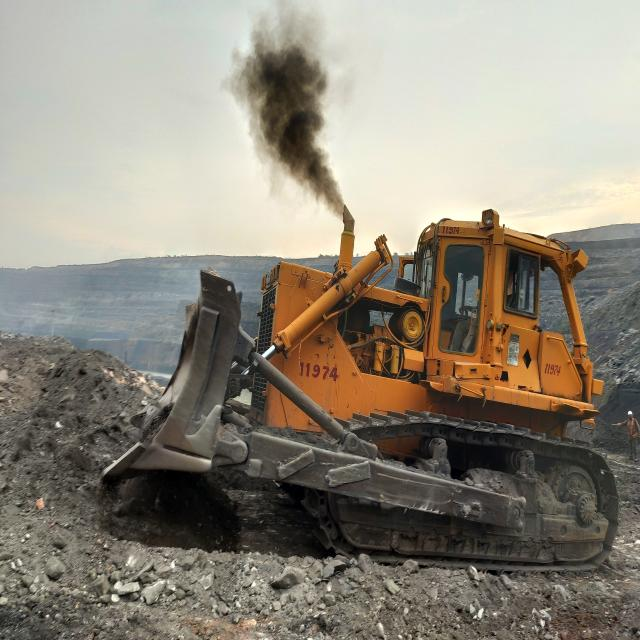buldozerpayloadergrader: (100, 209, 621, 574)
